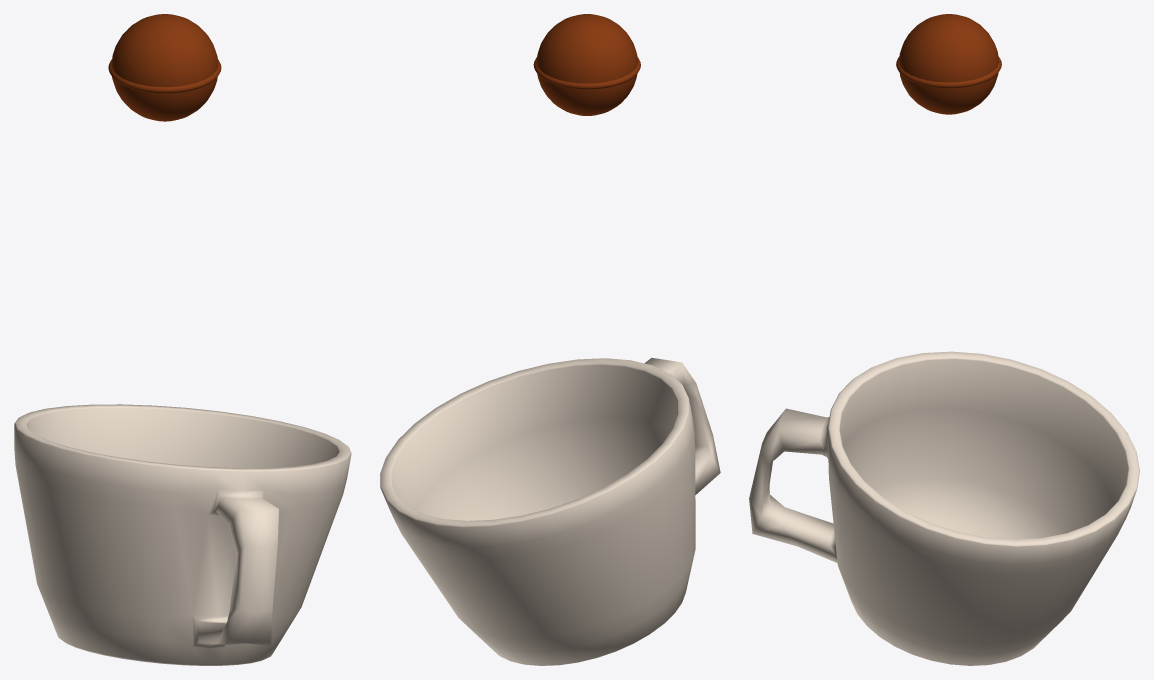
Rendered from asset.glb.
The picture shows the model from 3 angles, left to right: view 1: azimuth 30°, elevation 25°; view 2: azimuth 150°, elevation 25°; view 3: azimuth 270°, elevation 25°; orthographic projection. The views are drawn at different scales.
Visible parts, largest first — view 1: Circle, Esfera; view 2: Circle, Esfera; view 3: Circle, Esfera.
Boxes of the visible parts, x1,y1,x2,y2 form: Circle: [14, 404, 351, 665]; Esfera: [108, 14, 221, 121]; Circle: [380, 357, 720, 665]; Esfera: [533, 14, 640, 115]; Circle: [749, 351, 1139, 665]; Esfera: [896, 14, 1001, 114].
Size of the model in its own units: 1.56 by 3.34 by 1.94.
